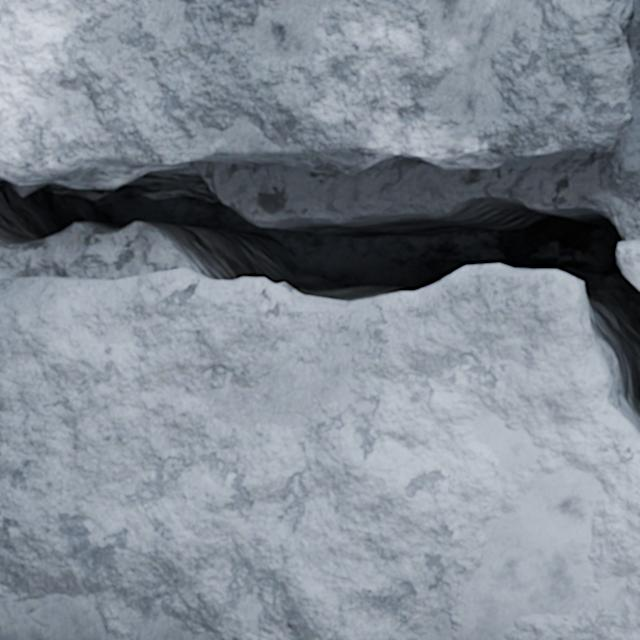broken_brick: (0, 264, 639, 639), (616, 240, 639, 289)
crack: (0, 0, 639, 435)
